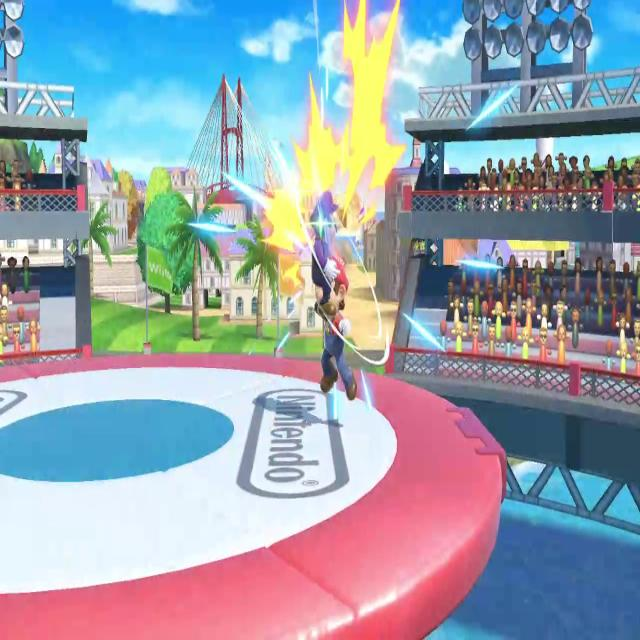Mario: (306, 181, 346, 311)
Mario-US: (306, 250, 363, 404)
